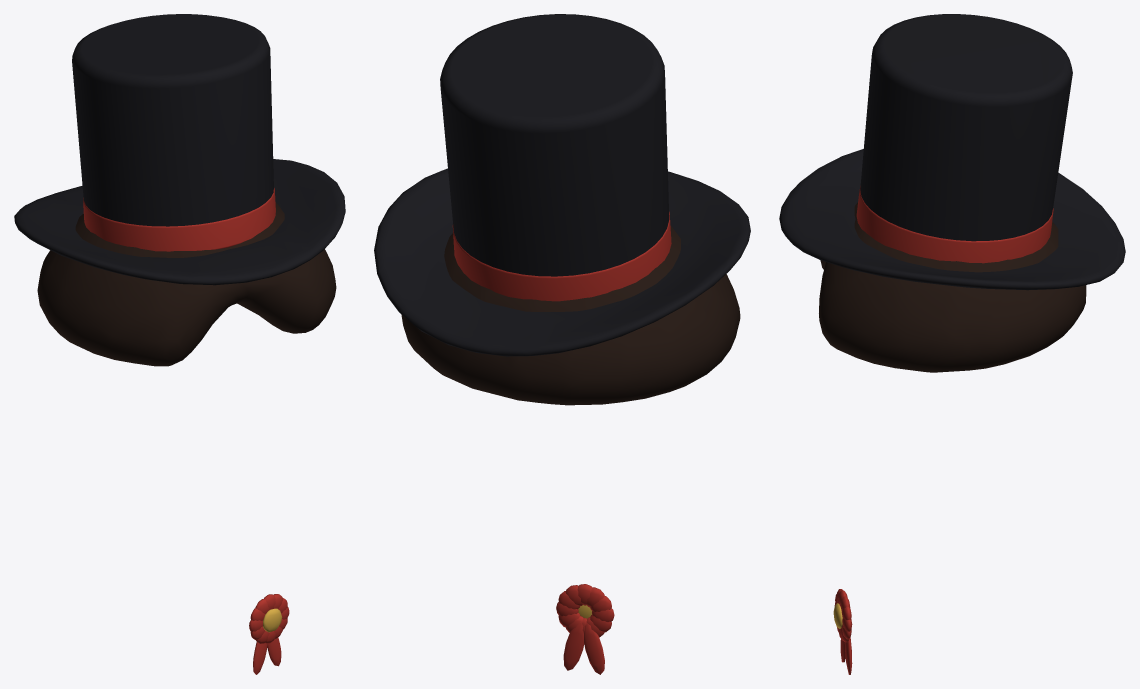
The model's file is outfit_show.glb.
The picture shows the model from 3 angles, left to right: view 1: azimuth 30°, elevation 25°; view 2: azimuth 150°, elevation 25°; view 3: azimuth 270°, elevation 25°; orthographic projection. The views are drawn at different scales.
Visible parts, largest first — view 1: outfit_show, outfit_show_hair_f; view 2: outfit_show, outfit_show_hair_f; view 3: outfit_show, outfit_show_hair_f.
Boxes of the visible parts, bbox=[...] form: outfit_show: bbox=[14, 14, 345, 674]; outfit_show_hair_f: bbox=[37, 202, 336, 366]; outfit_show: bbox=[374, 14, 750, 674]; outfit_show_hair_f: bbox=[401, 225, 740, 405]; outfit_show: bbox=[779, 14, 1125, 674]; outfit_show_hair_f: bbox=[819, 202, 1086, 372].
Bounding box in the file's own units: 0.44 × 0.8807 × 0.4557.
